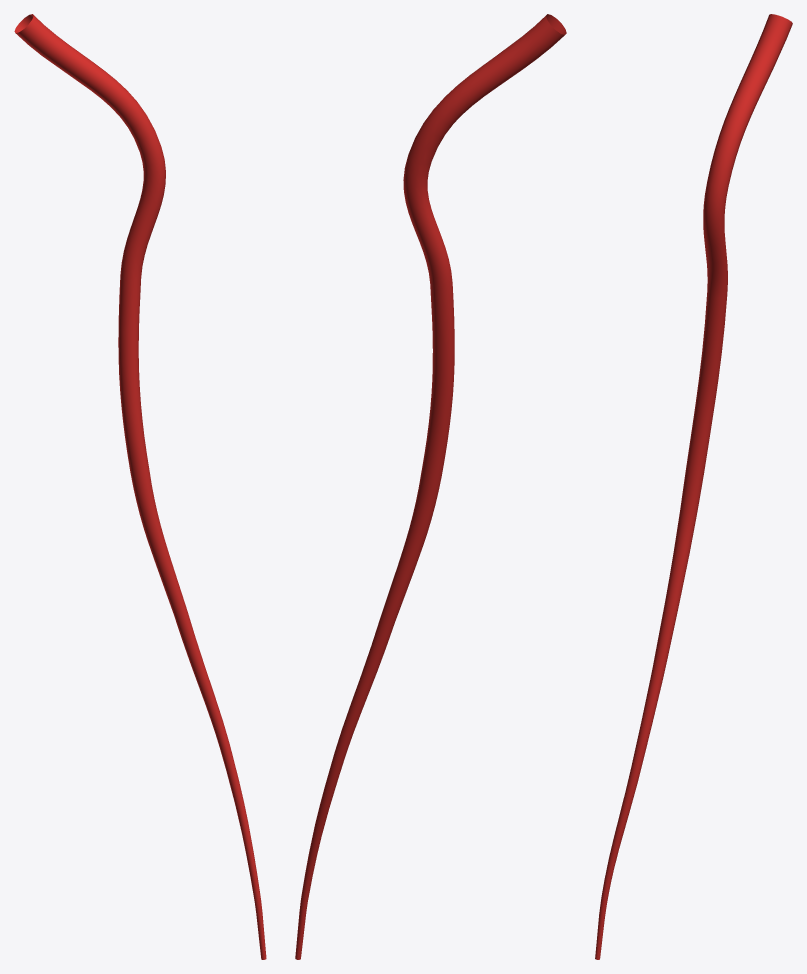
Rendered from circulatorio-thoracodorsal-vein-l.glb.
3 views of the same model, side by side, from view 1: azimuth 30°, elevation 25°; view 2: azimuth 210°, elevation 25°; view 3: azimuth 270°, elevation 25° (orthographic). The views are drawn at different scales.
Parts seen in each view (by area): view 1: Thoracodorsal vein.l; view 2: Thoracodorsal vein.l; view 3: Thoracodorsal vein.l.
Part boxes in pixels (left/top/right/bottom): Thoracodorsal vein.l: left=14, top=14, right=266, bottom=959; Thoracodorsal vein.l: left=295, top=14, right=566, bottom=959; Thoracodorsal vein.l: left=595, top=14, right=792, bottom=959.
Bounding box in the file's own units: 0.0207 × 0.1149 × 0.0234.
